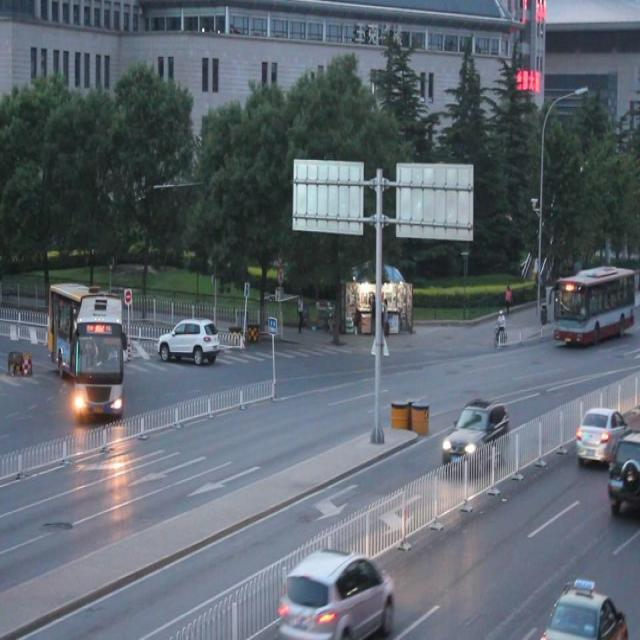car: (279, 547, 393, 640), (439, 393, 510, 473), (540, 577, 625, 640), (157, 314, 218, 366), (573, 404, 622, 468), (603, 431, 640, 512)
van: (48, 280, 126, 415)
